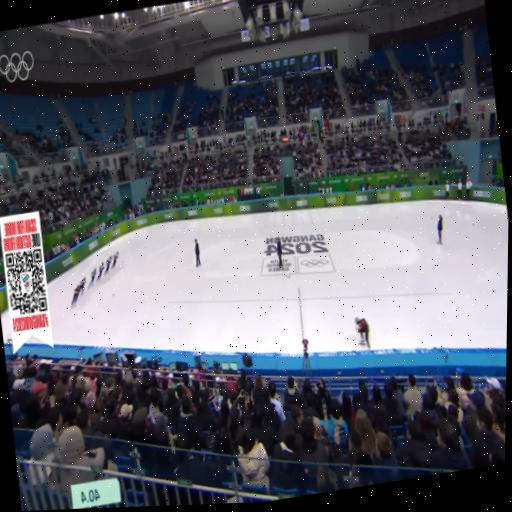Skater: (67, 283, 83, 311), (354, 319, 369, 348), (85, 266, 99, 291), (75, 276, 89, 299), (101, 255, 115, 278), (94, 260, 107, 283), (108, 251, 122, 271)
